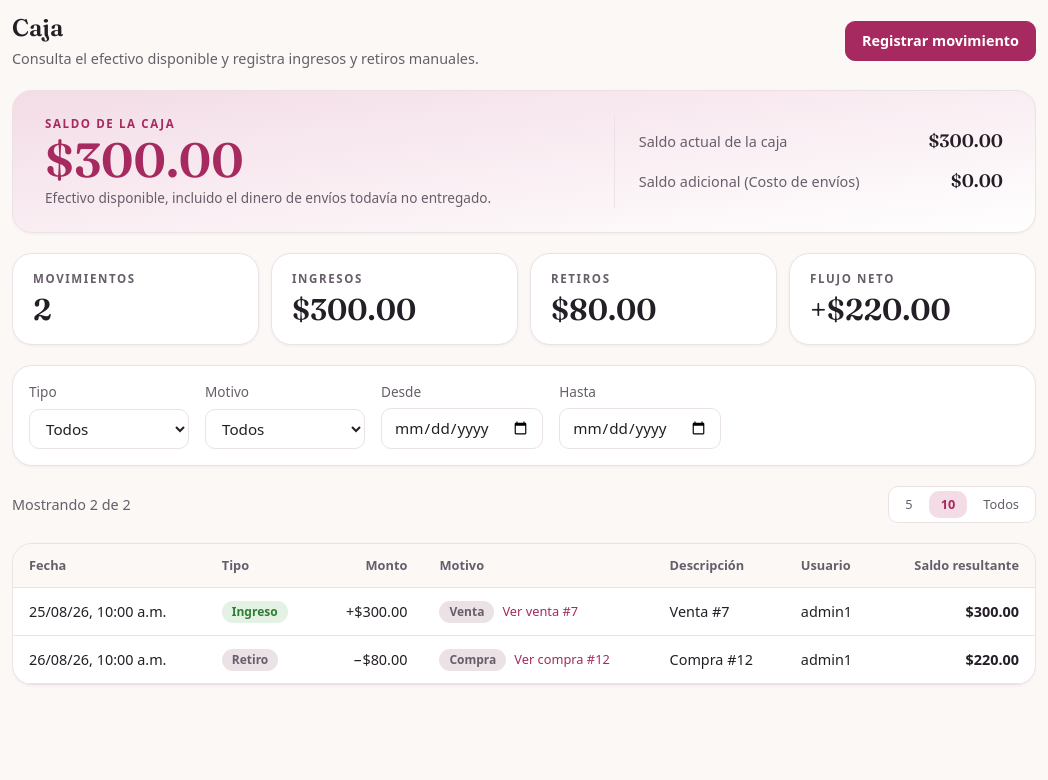
Scenario: Caja › "Limpiar filtros" aparece con un filtro aplicado y lo restablece
Expected: the button "Limpiar filtros" is not shown
Select "Retiro" in the dropdown labelled "Tipo". click: [109, 429]
box: [29,409,189,449]
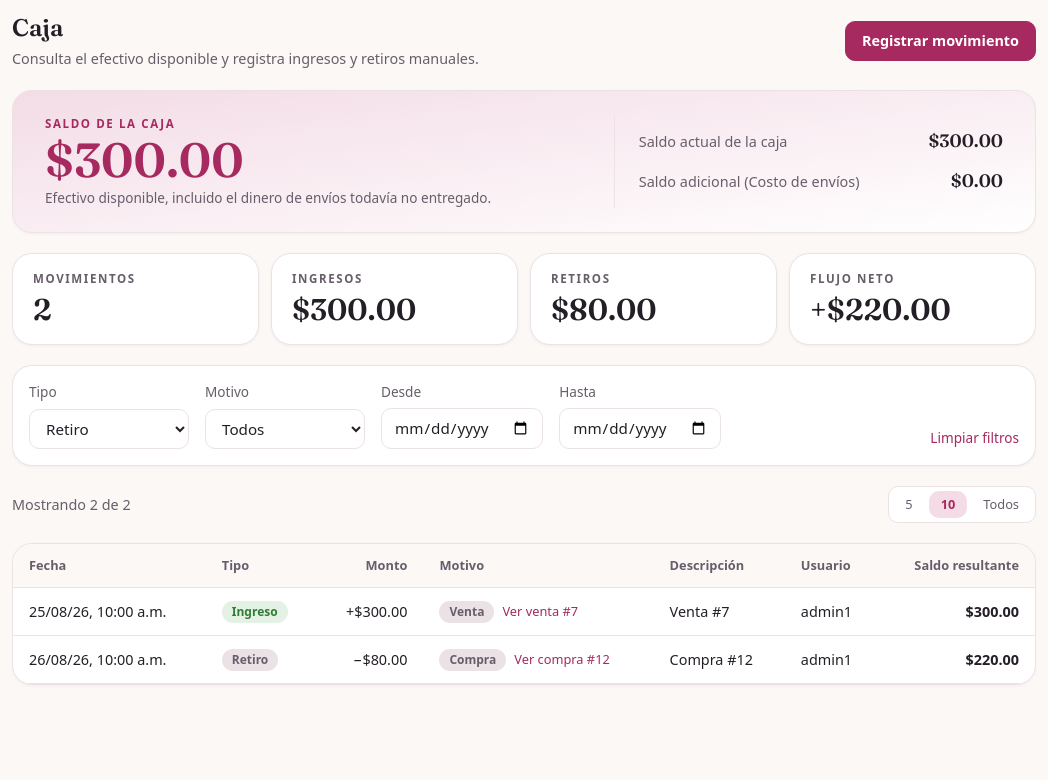
Click the button "Limpiar filtros". click: [975, 438]
box: [930,428,1019,449]
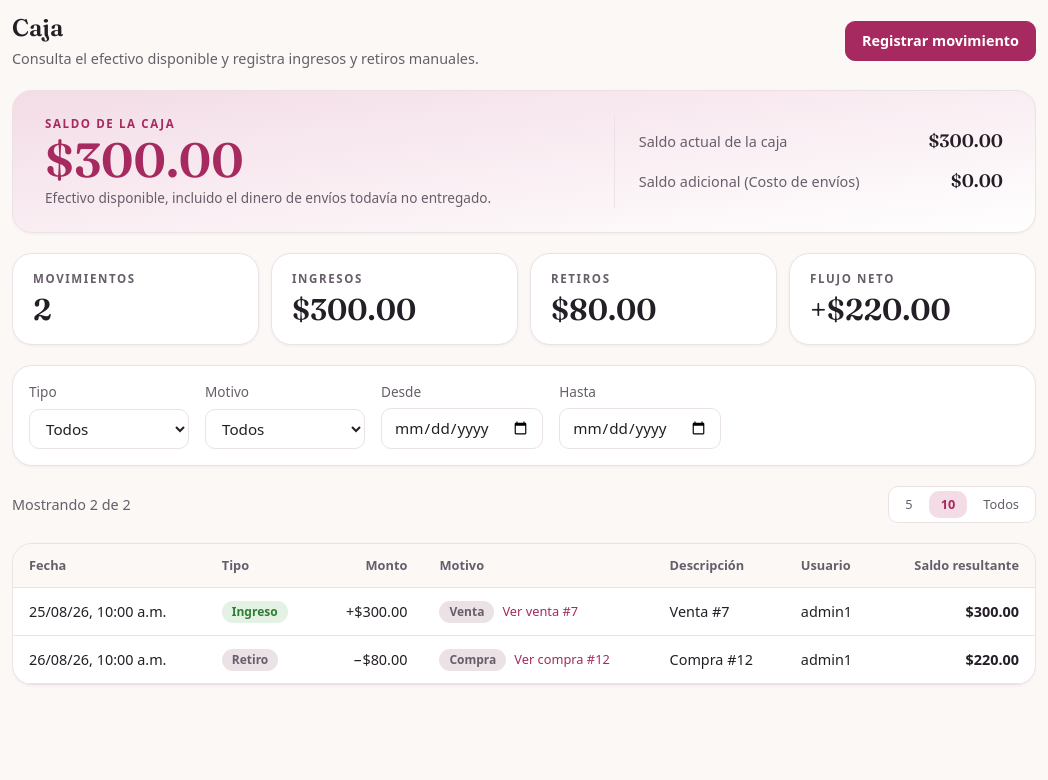
Result: the button "Limpiar filtros" is gone
